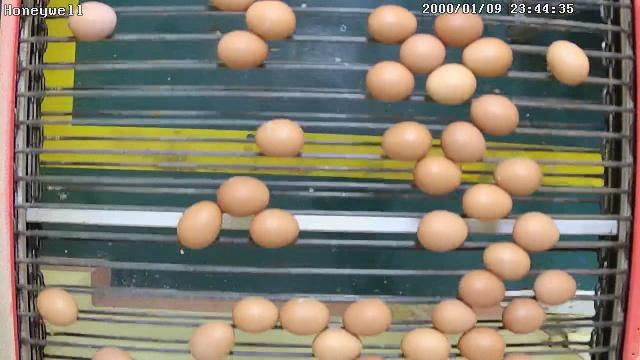egg: (174, 199, 224, 251), (460, 35, 514, 80), (469, 92, 521, 138), (544, 38, 592, 87), (214, 175, 270, 217), (216, 29, 270, 72), (415, 211, 469, 254), (364, 60, 416, 104), (424, 62, 476, 106), (381, 120, 433, 164), (492, 154, 544, 198), (244, 0, 297, 43), (433, 6, 484, 50), (66, 1, 118, 44), (253, 118, 306, 160), (412, 153, 463, 196), (366, 3, 418, 45), (462, 180, 514, 222), (278, 294, 330, 336), (397, 31, 447, 74), (512, 210, 562, 253), (248, 208, 300, 249), (440, 120, 488, 164), (480, 240, 530, 282), (456, 268, 506, 310), (341, 298, 392, 338), (188, 317, 235, 360), (398, 324, 452, 360), (35, 286, 79, 328), (310, 326, 364, 360), (231, 296, 279, 334), (457, 323, 506, 360), (501, 296, 546, 336), (431, 297, 478, 335), (533, 267, 578, 306)
